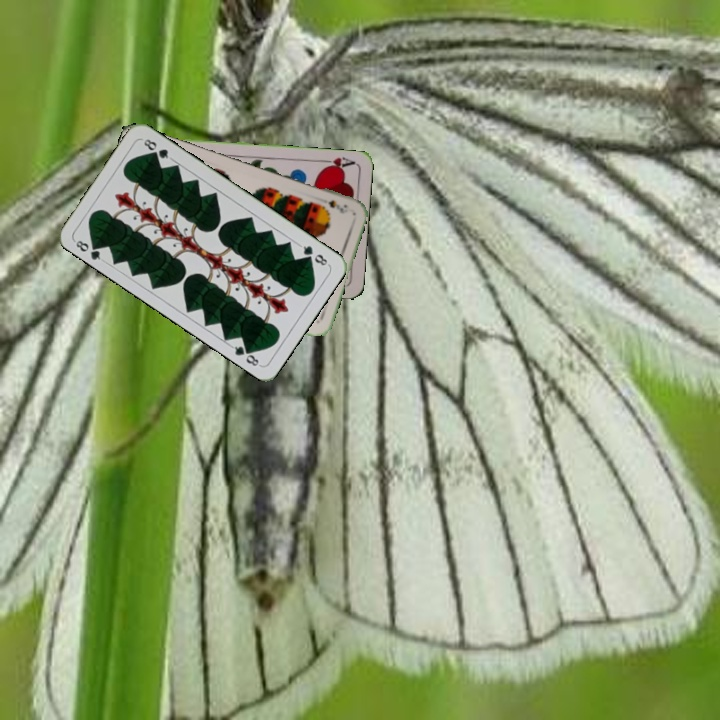G8: (70, 236, 106, 264), (295, 241, 331, 268)
HA: (316, 153, 357, 173)
S9: (324, 196, 350, 216)
